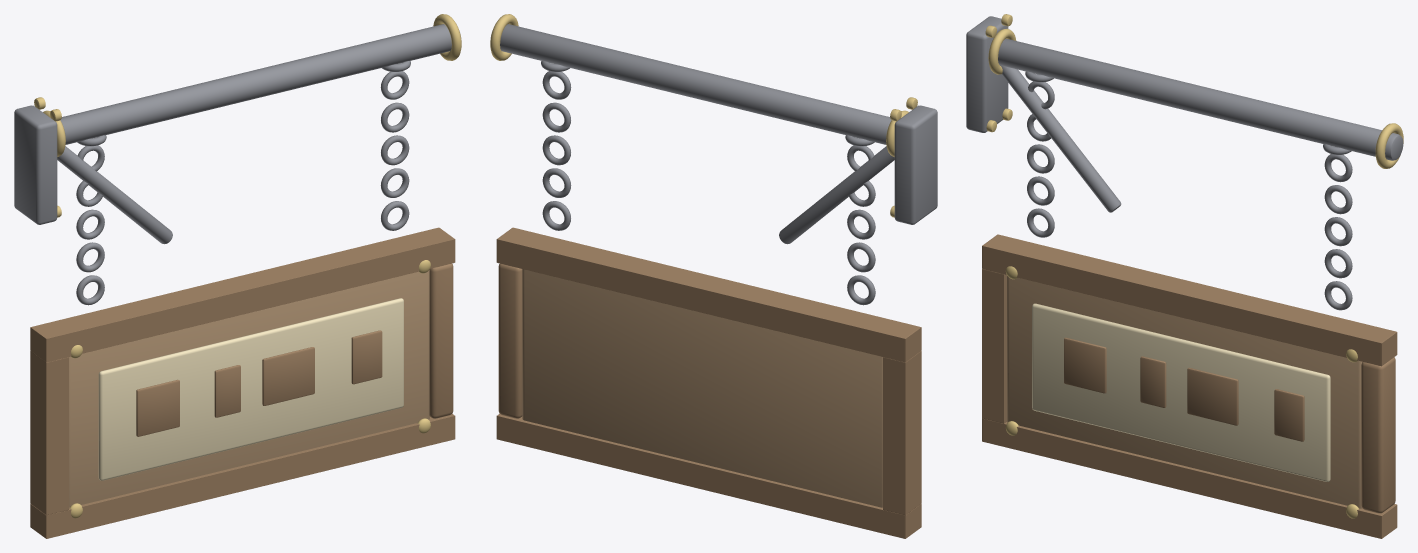
File: hanging_sign.glb
3 views of the same model, side by side, from view 1: azimuth 30°, elevation 25°; view 2: azimuth 150°, elevation 25°; view 3: azimuth 330°, elevation 25° (orthographic). The views are drawn at different scales.
Visible parts, largest first — view 1: Sign_Face, Sign_Board, Sign_RailTop, Sign_BracketBar, Sign_RailBottom, Sign_RailSideL, Sign_WallPlate, Sign_RailSideR, Sign_Glyph_2, Sign_BracketBrace, Sign_Glyph_0, Sign_Glyph_3 (+2 smaller); view 2: Sign_Board, Sign_RailTop, Sign_BracketBar, Sign_RailBottom, Sign_RailSideL, Sign_WallPlate, Sign_RailSideR, Sign_BracketBrace, Sign_BarCollar_0.485; view 3: Sign_Face, Sign_Board, Sign_RailTop, Sign_BracketBar, Sign_RailBottom, Sign_RailSideR, Sign_RailSideL, Sign_WallPlate, Sign_BracketBrace, Sign_Glyph_2, Sign_Glyph_0, Sign_Glyph_3 (+3 smaller).
Boxes of the visible parts, bbox=[...] form: Sign_Face: bbox=[98, 298, 403, 480]; Sign_Board: bbox=[69, 270, 429, 507]; Sign_RailTop: bbox=[30, 227, 455, 362]; Sign_BracketBar: bbox=[60, 24, 461, 144]; Sign_RailBottom: bbox=[30, 413, 455, 538]; Sign_RailSideL: bbox=[30, 351, 68, 515]; Sign_WallPlate: bbox=[14, 105, 57, 224]; Sign_RailSideR: bbox=[429, 263, 453, 418]; Sign_Glyph_2: bbox=[262, 347, 314, 405]; Sign_BracketBrace: bbox=[57, 146, 172, 244]; Sign_Glyph_0: bbox=[136, 379, 179, 436]; Sign_Glyph_3: bbox=[351, 330, 382, 384]; Sign_Board: bbox=[522, 269, 882, 507]; Sign_RailTop: bbox=[496, 227, 921, 362]; Sign_BracketBar: bbox=[490, 24, 891, 144]; Sign_RailBottom: bbox=[496, 413, 921, 538]; Sign_RailSideL: bbox=[883, 351, 921, 515]; Sign_WallPlate: bbox=[894, 105, 937, 224]; Sign_RailSideR: bbox=[498, 263, 522, 418]; Sign_BracketBrace: bbox=[779, 146, 894, 244]; Sign_BarCollar_0.485: bbox=[490, 14, 518, 60]; Sign_Face: bbox=[1032, 303, 1330, 481]; Sign_Board: bbox=[1007, 276, 1362, 508]; Sign_RailTop: bbox=[982, 234, 1397, 366]; Sign_BracketBar: bbox=[998, 38, 1403, 160]; Sign_RailBottom: bbox=[982, 418, 1397, 538]; Sign_RailSideR: bbox=[1361, 357, 1395, 513]; Sign_RailSideL: bbox=[982, 269, 1006, 423]; Sign_WallPlate: bbox=[966, 16, 1008, 132]; Sign_BracketBrace: bbox=[1000, 65, 1121, 212]; Sign_Glyph_2: bbox=[1187, 367, 1238, 425]; Sign_Glyph_0: bbox=[1064, 337, 1106, 393]; Sign_Glyph_3: bbox=[1274, 389, 1304, 441].
Bounding box in the file's own units: 0.495 × 0.469 × 0.05.
